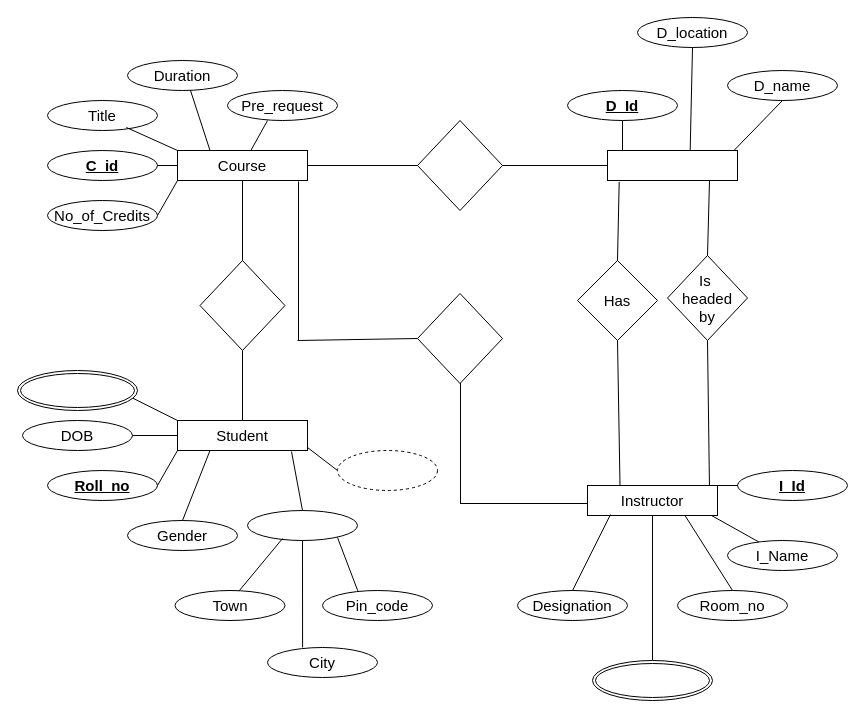
The diagram is 865 pixels wide and 718 high, and some of its shapes have lost their labels. The shapes that lost their labels are listed below. From the top down, each one's centre as x and y in pixels, then its label:
At (459,165): "Offer".
At (672,165): "Department".
At (242,305): "Enrolled by".
At (459,338): "Is Taught by".
At (77,390): "Email".
At (387,470): "Age".
At (302,525): "Address".
At (652,680): "Mobile_no".
